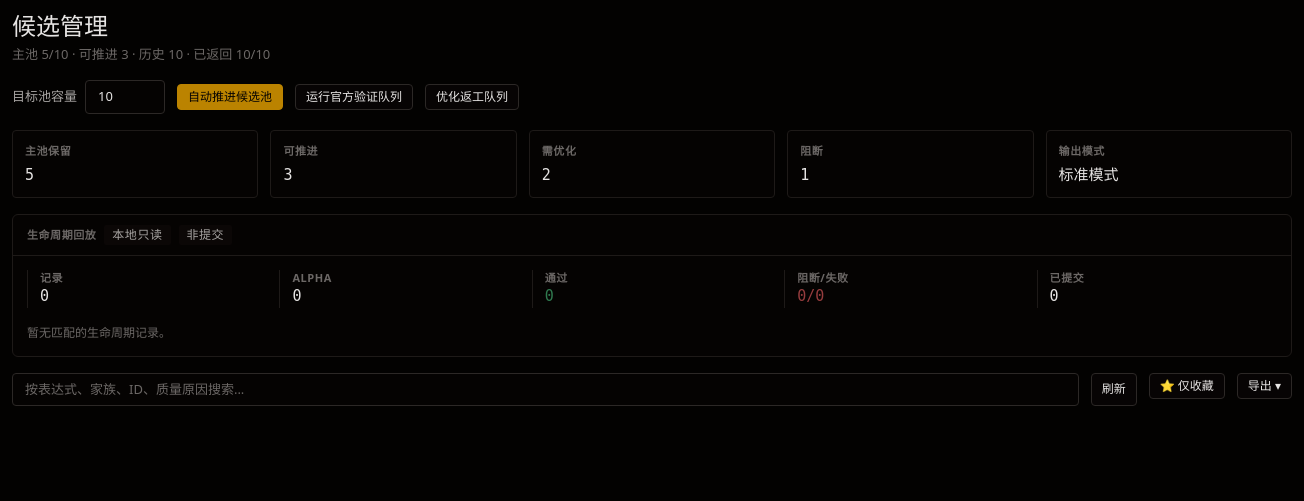
Test: CandidateTableToolbar › renders export dropdown and toggles it
The width and height of the screenshot is (1304, 501).
Click the button "导出 ▾".
click(1264, 386)  # box [1237,373,1292,399]
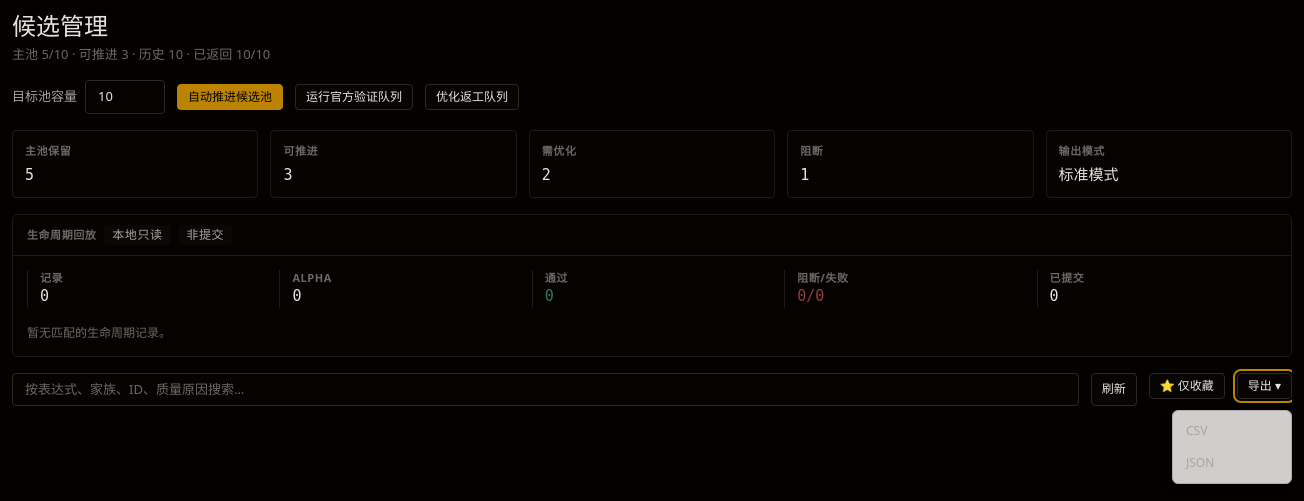
Check: the menu named "导出选项" is shown, box [1172,410,1292,484]
Check: the menu item with aria-label "导出为 CSV 格式" is shown, box [1173,415,1291,447]
Check: the menu item with aria-label "导出为 JSON 格式" is shown, box [1173,447,1291,479]
